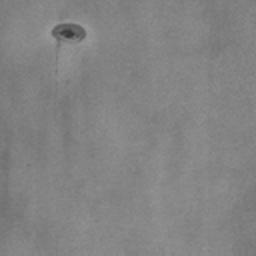Slag inclusion: (50, 22, 88, 50)
